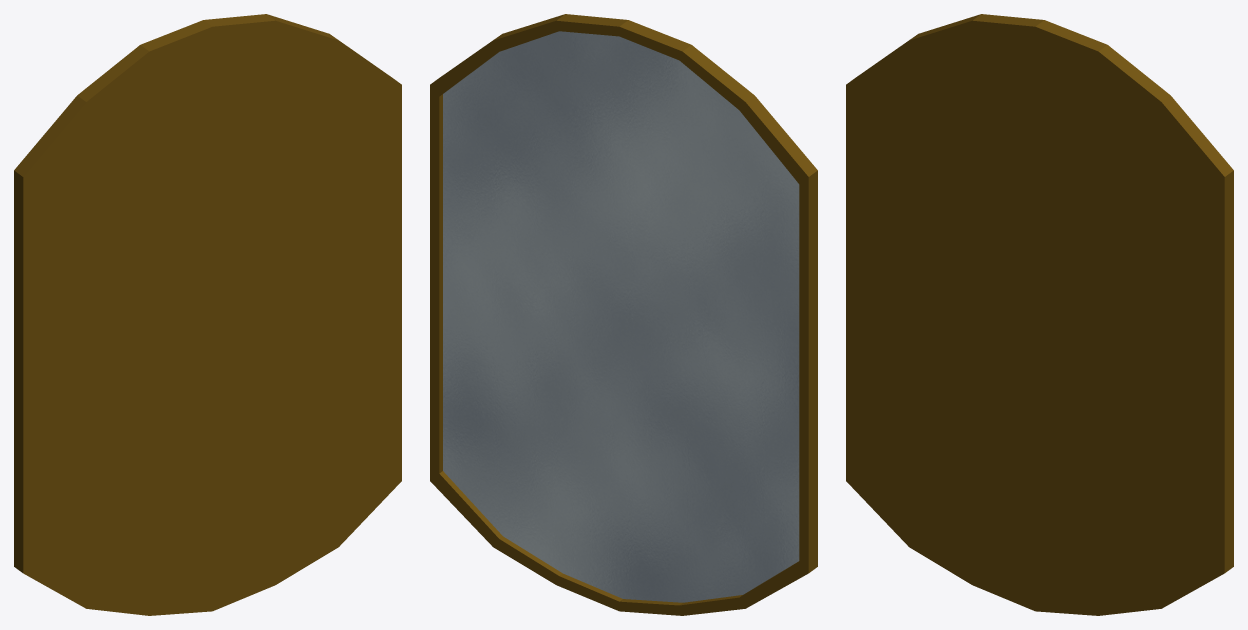
File: Mirror_2fbx.fbx
3 renders of one model, left to right at view 1: azimuth 30°, elevation 25°; view 2: azimuth 150°, elevation 25°; view 3: azimuth 330°, elevation 25°, orthographic.
Visible parts, largest first — view 1: Cube.066; view 2: Cube.066; view 3: Cube.066.
Boxes of the visible parts, x1=… form: Cube.066: x1=14, y1=14, x2=401, y2=615; Cube.066: x1=430, y1=14, x2=817, y2=615; Cube.066: x1=846, y1=14, x2=1233, y2=615.
Size of the model in its own units: 107 by 159 by 4.52.
